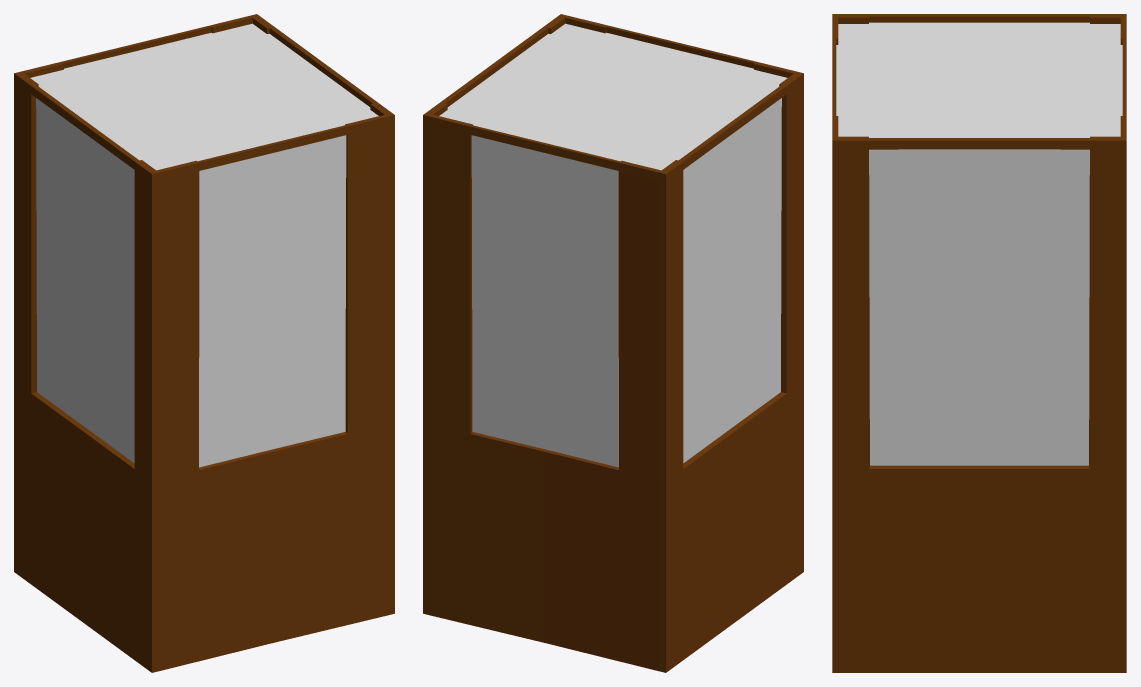
File: VITRINA2.fbx
3 views of the same model, side by side, from view 1: azimuth 30°, elevation 25°; view 2: azimuth 150°, elevation 25°; view 3: azimuth 270°, elevation 25° (orthographic). The views are drawn at different scales.
Parts seen in each view (by area): view 1: Cube; view 2: Cube; view 3: Cube.
Boxes of the visible parts, x1=… form: Cube: x1=14, y1=14, x2=394, y2=672; Cube: x1=423, y1=14, x2=803, y2=672; Cube: x1=832, y1=14, x2=1126, y2=672.
Bounding box in the file's own units: 289 × 567 × 285.
